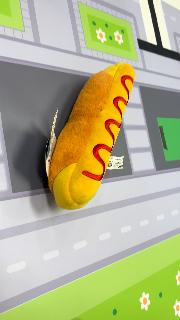hotdog: (46, 61, 136, 210)
